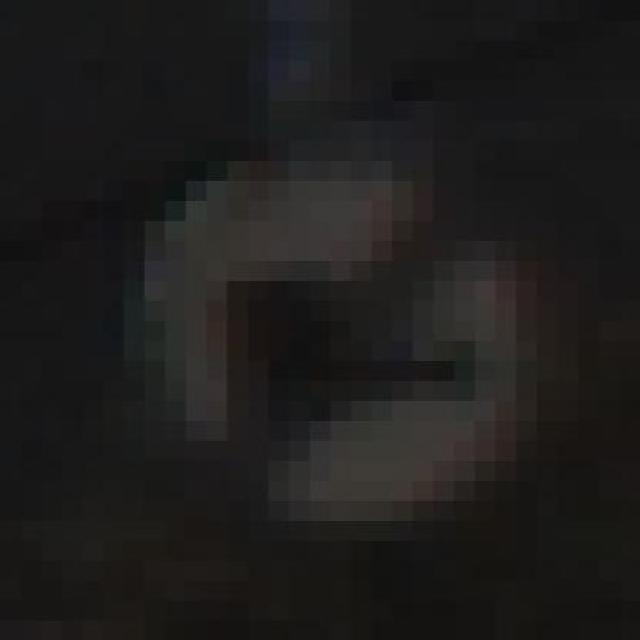Overtaking by trucks is prohibited: (82, 120, 578, 540)
